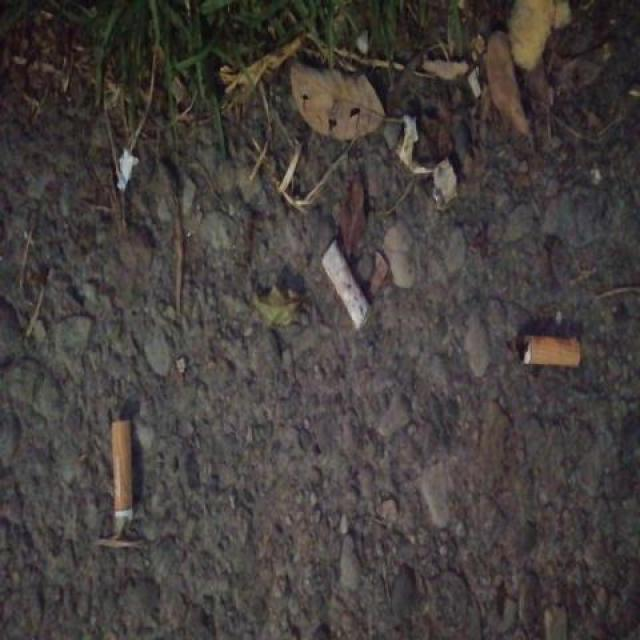non-organic waste: (318, 236, 375, 337), (105, 413, 139, 539), (513, 329, 586, 374)
